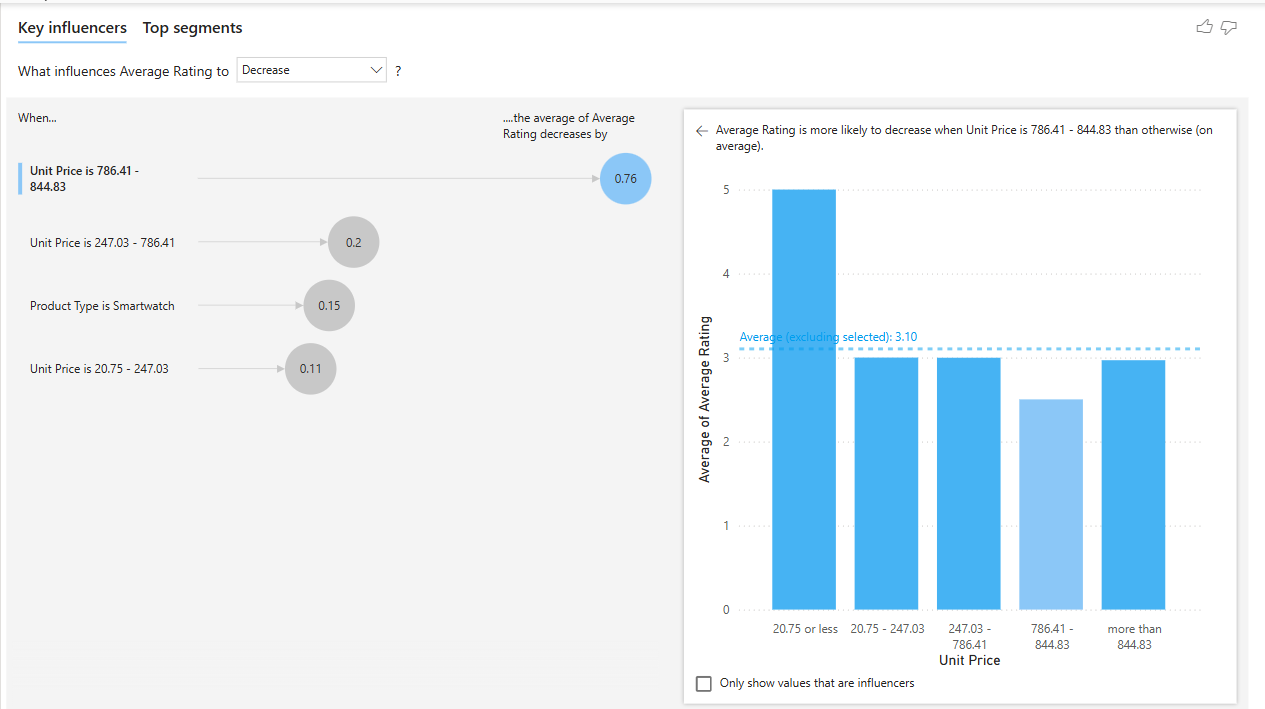

Layout of this report page (visuals, bound fields, positions):
{"tool":"powerbi","page":{"name":"Average Rating Key Influencers","canvas":[1280,720],"ordinal":5},"visuals":[{"type":"keyDriversVisual","fields":{"Target":["Calculation.Average Rating"],"ExplainBy":["Products.Product Type","Orders.Purchase Date.Variation.Date Hierarchy.Year","Orders.Purchase Date.Variation.Date Hierarchy.Quarter","Orders.Purchase Date.Variation.Date Hierarchy.Month","Orders.Purchase Date.Variation.Date Hierarchy.Day","Products.Unit Price","Sum(Orders.Total Order Value)","Customers.Loyalty Member","Customers.Province (groups)"]},"box":[0,0,1264,720],"z":0}]}

Visuals, with their boxes in screenshot pixels (x1, y1, x2, y2), scaled from the page's 1280x720 canvas onto the 1265x709 screenshot:
keyDriversVisual - Calculation.Average Rating x Products.Product Type: x1=0 y1=0 x2=1249 y2=708
